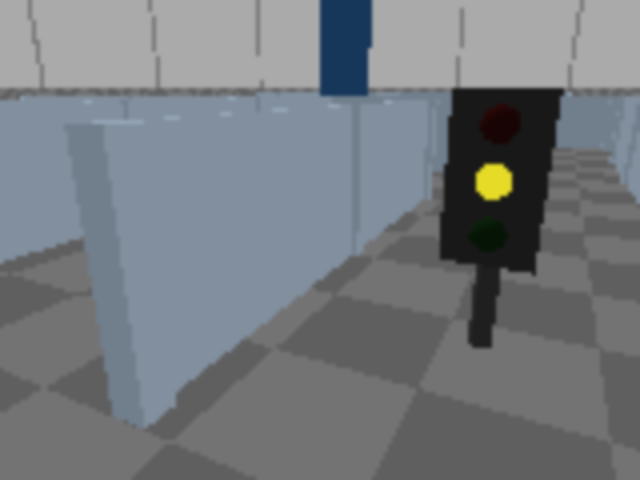traffic_light: (430, 70, 565, 374)
